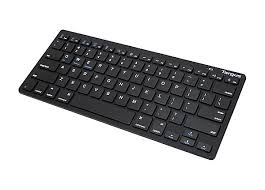keyboard: (17, 28, 247, 161)
